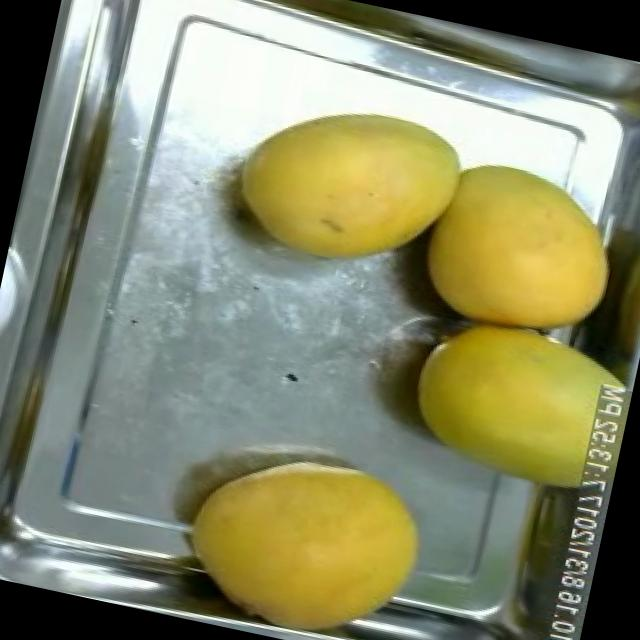fruit: (163, 423, 446, 640), (211, 73, 481, 300), (393, 137, 640, 363), (380, 294, 628, 511)
